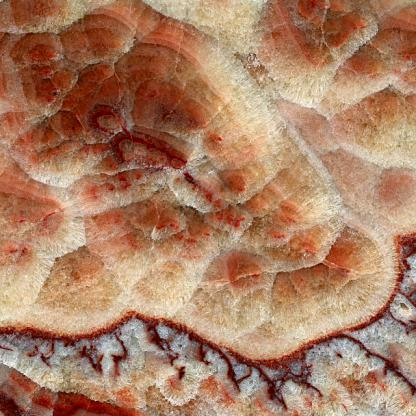Metamorphic_Marble: (0, 7, 415, 415)
